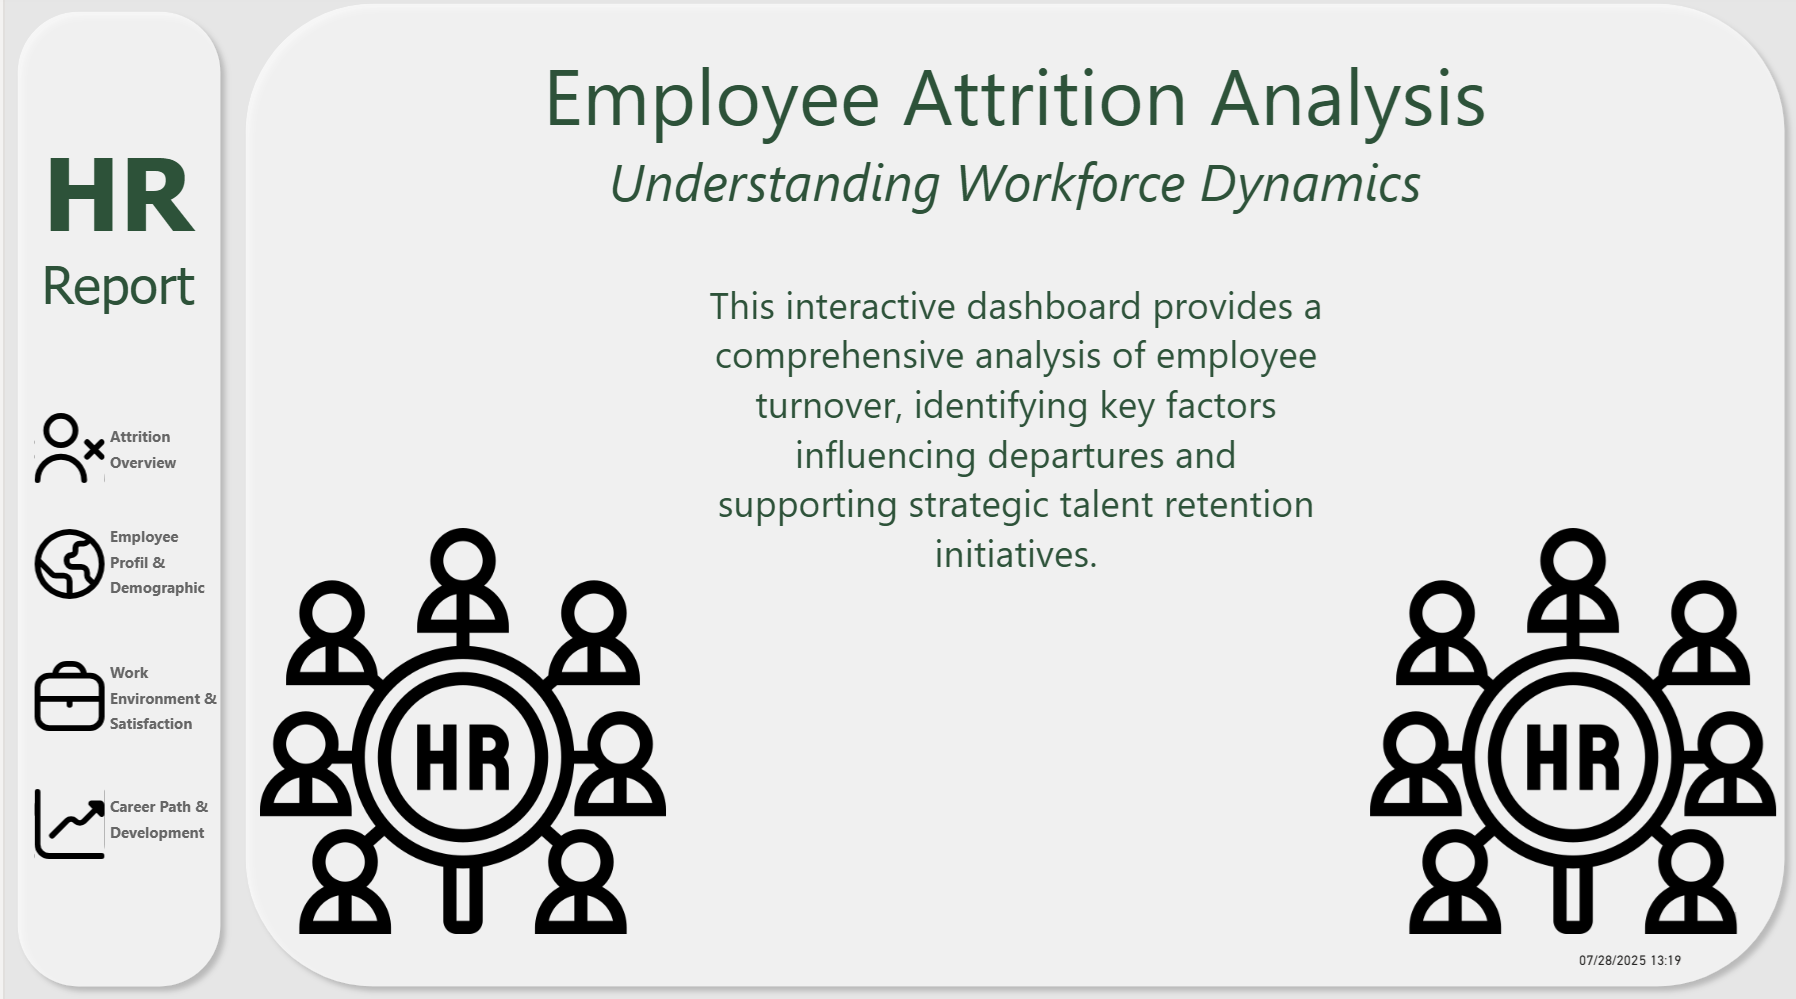

Layout of this report page (visuals, bound fields, positions):
{"tool":"powerbi","page":{"name":"Landing Page","canvas":[1280,720],"ordinal":0},"visuals":[{"type":"group","id":"g1","title":"Group 1","box":[0,5.7,162.9,714.3],"z":0},{"type":"shape","box":[0,5.7,162.9,714.3],"z":0,"group":"g1"},{"type":"textbox","box":[70,302.8,80,47.1],"z":500,"group":"g1"},{"type":"shape","box":[162.9,0,1117.1,720],"z":1000},{"type":"actionButton","box":[17.1,291.4,141.4,70],"z":1000,"group":"g1"},{"type":"textbox","box":[70,374.3,80,84.3],"z":1750,"group":"g1"},{"type":"textbox","box":[358.6,30,725.7,140],"z":2000},{"type":"actionButton","box":[17.1,374.3,141.4,70],"z":2500,"group":"g1"},{"type":"textbox","box":[1197.1,652.9,44.3,25.7],"z":3000},{"type":"textbox","box":[70,471.4,92.9,67.1],"z":3250,"group":"g1"},{"type":"image","box":[970,378.6,300,300],"z":4000},{"type":"actionButton","box":[17.1,468.6,141.4,70],"z":4000,"group":"g1"},{"type":"textbox","box":[497.1,200,450,300],"z":5000},{"type":"textbox","box":[70,567.1,88.6,55.7],"z":5000,"group":"g1"},{"type":"image","box":[177.1,378.6,300,300],"z":6000},{"type":"actionButton","box":[17.1,560,141.4,70],"z":6000,"group":"g1"},{"type":"card","fields":{"Values":["HR 2.Data Ostatniej Aktualizacji"]},"box":[1102.9,678.6,115.7,22.9],"z":7000},{"type":"textbox","box":[17.1,94.3,127.1,151.4],"z":8000}]}

Visuals, with their boxes in screenshot pixels (x1, y1, x2, y2), scaled from the page's 1280x720 canvas onto the 1796x999 screenshot:
"Group 1" group: 0,8,229,998
shape: 0,8,229,998
textbox: 98,420,210,485
shape: 229,0,1795,998
actionButton: 24,404,222,501
textbox: 98,519,210,636
textbox: 503,42,1521,236
actionButton: 24,519,222,616
textbox: 1680,906,1742,942
textbox: 98,654,229,747
image: 1361,525,1782,942
actionButton: 24,650,222,747
textbox: 697,278,1329,694
textbox: 98,787,223,864
image: 248,525,669,942
actionButton: 24,777,222,874
card - HR 2.Data Ostatniej Aktualizacji: 1548,942,1710,973
textbox: 24,131,202,341
